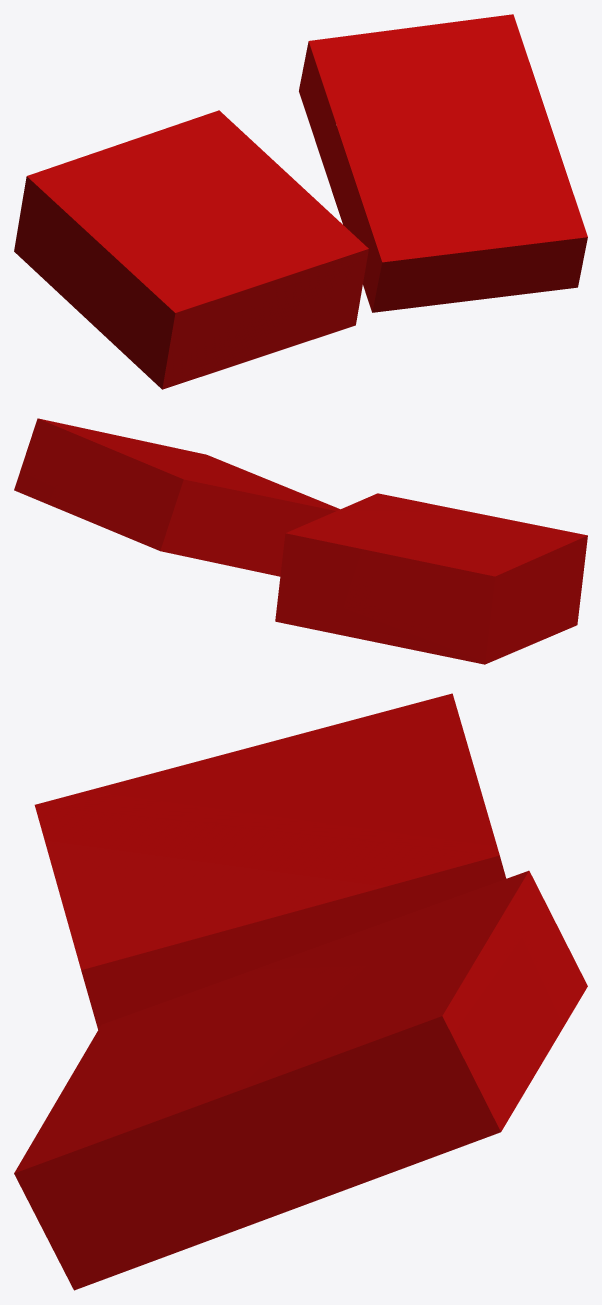
Rendered from n_marketstand01_box_lod0.glb.
3 renders of one model, top to bottom at view 1: azimuth 30°, elevation 25°; view 2: azimuth 150°, elevation 25°; view 3: azimuth 270°, elevation 25°, orthographic. The views are drawn at different scales.
Parts seen in each view (by area): view 1: MODEL_n_marketstand01_box_lod0; view 2: MODEL_n_marketstand01_box_lod0; view 3: MODEL_n_marketstand01_box_lod0.
Boxes of the visible parts, x1,y1,x2,y2 form: MODEL_n_marketstand01_box_lod0: (14, 14, 587, 389); MODEL_n_marketstand01_box_lod0: (14, 418, 587, 664); MODEL_n_marketstand01_box_lod0: (14, 693, 587, 1290).
Bounding box in the file's own units: 0.7053 × 0.2525 × 0.4197.
